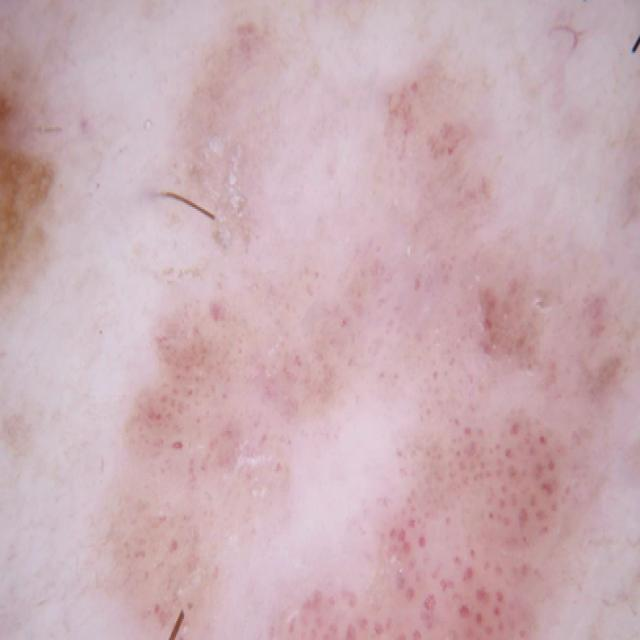Carcinoma: (140, 55, 640, 640), (0, 85, 35, 286)
